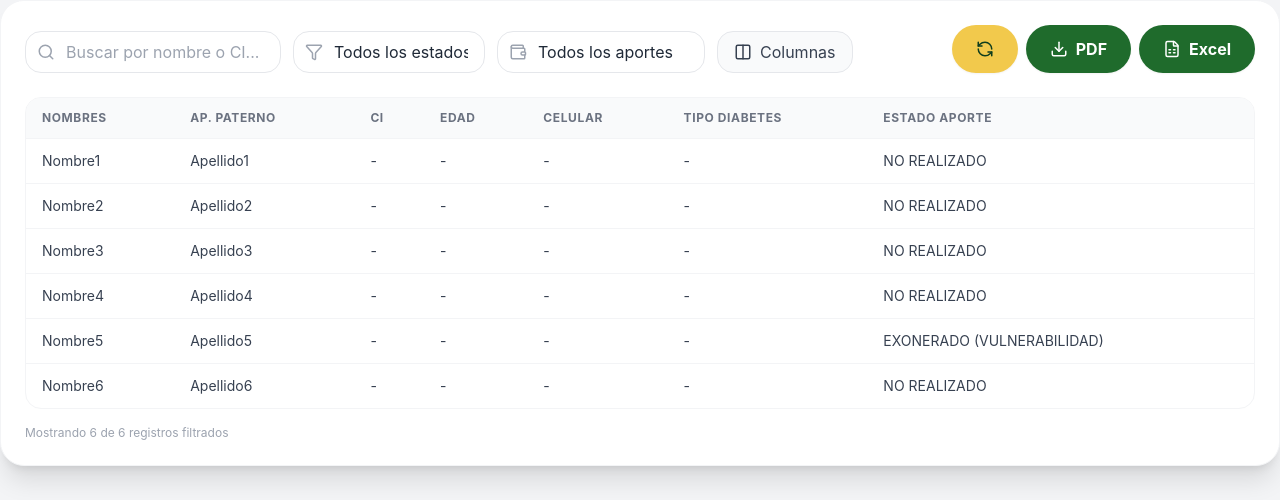
Test: Reporte de beneficiarios: aporte comprometido › muestra la columna «Aporte comprometido» y filtra por exonerados o por monto
Check: the text "Apellido1" is shown, box 174,138 -> 354,184
Click the button "Columnas" at (785, 52), box 717,31 -> 852,73
(page scrolled)
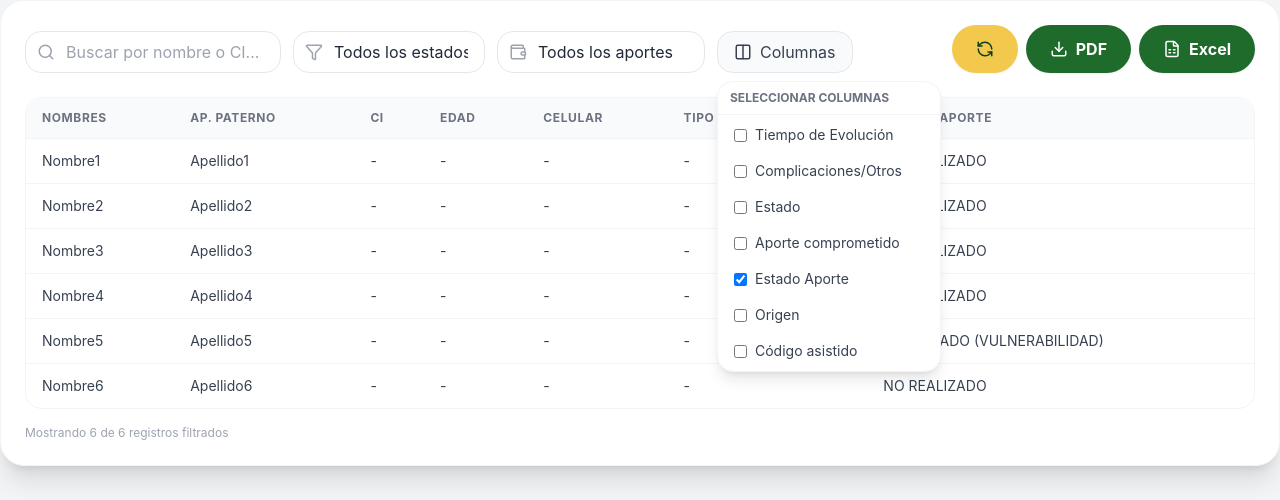
Click the checkbox labelled "Aporte comprometido" at (740, 243), box 734,236 -> 747,250
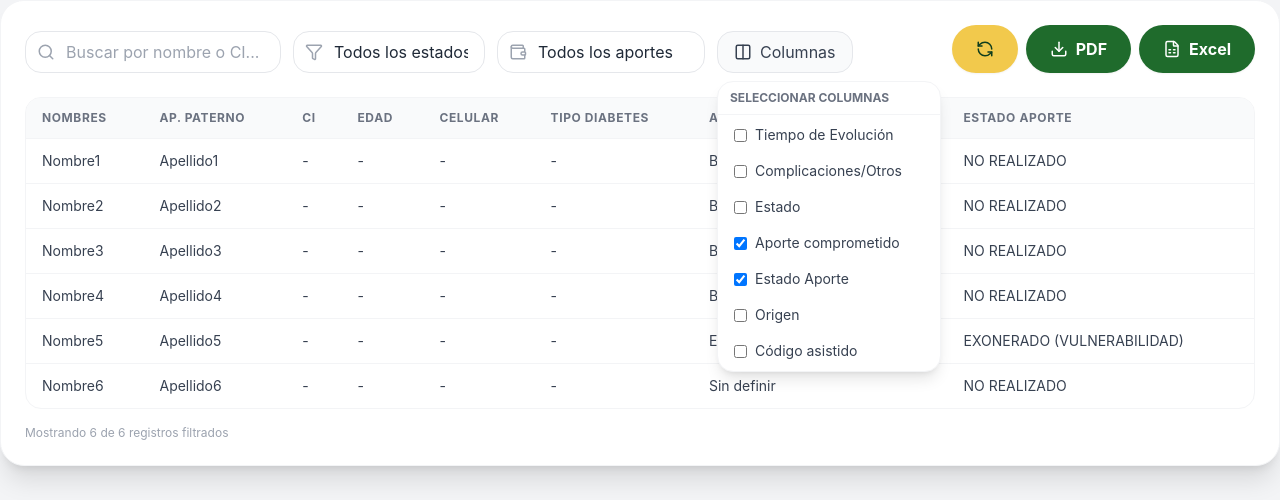
Select "Pagan Bs. 25" in the dropdown named "Aporte" at (601, 52), box 497,31 -> 705,73
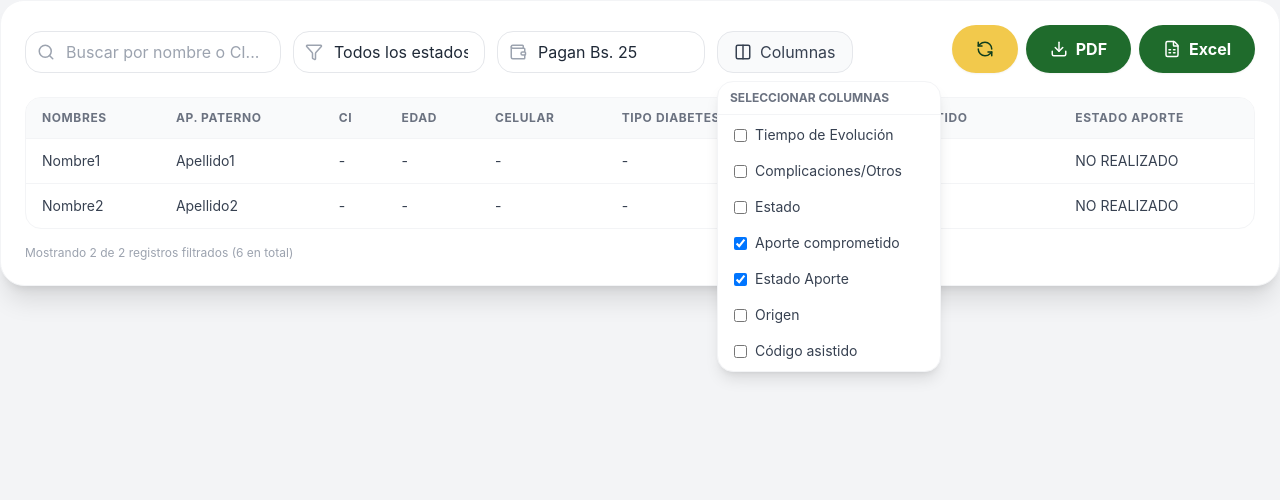
Check: the text "Apellido1" is shown, box 160,138 -> 323,184
Check: the text "Apellido3" is gone
Check: the text "Mostrando 2 de 2 registros filtrados (6 en total)" is shown, box 25,245 -> 293,261
Select "Exonerados" in the dropdown named "Aporte" at (601, 52), box 497,31 -> 705,73
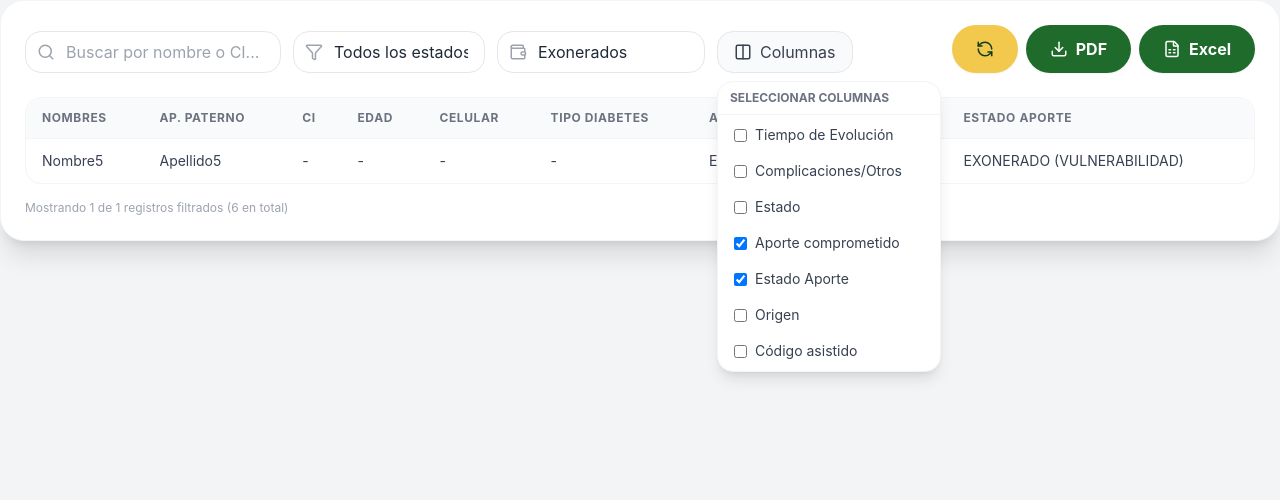
Check: the text "Apellido5" is shown, box 144,138 -> 286,183
Check: the text "Apellido1" is gone
